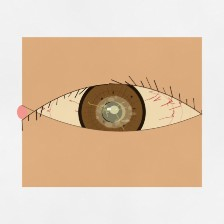corneal_ulcer: (95, 97, 133, 127)
